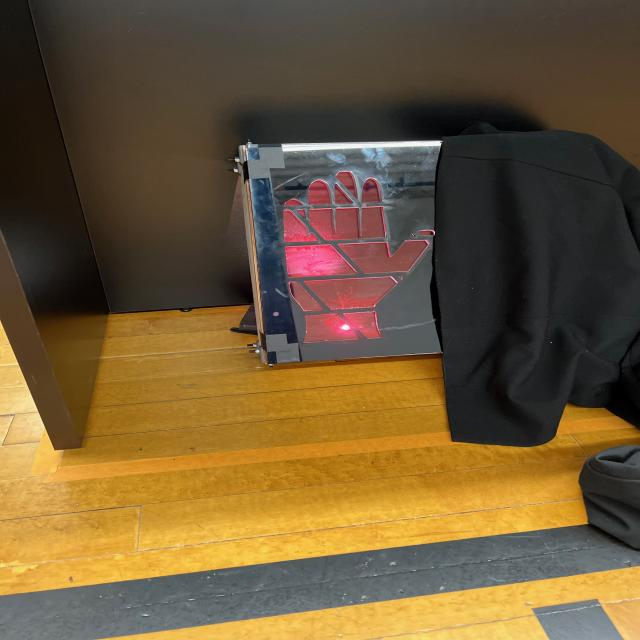stop: (248, 146, 448, 373)
